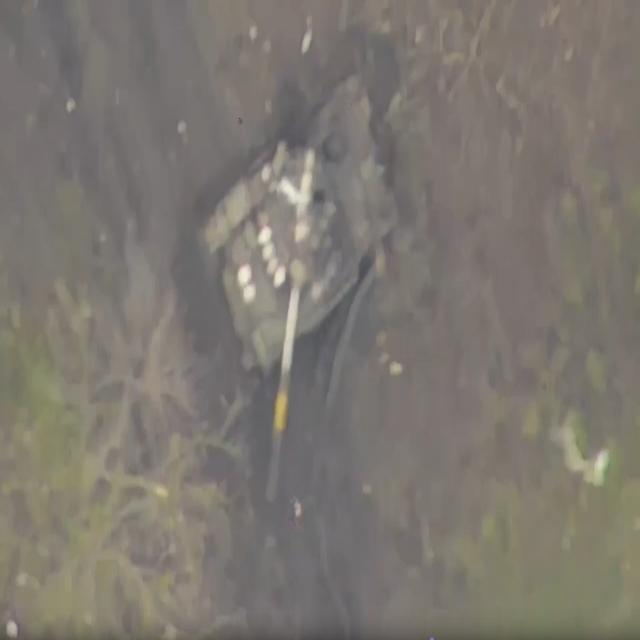MBT: (203, 69, 399, 515)
